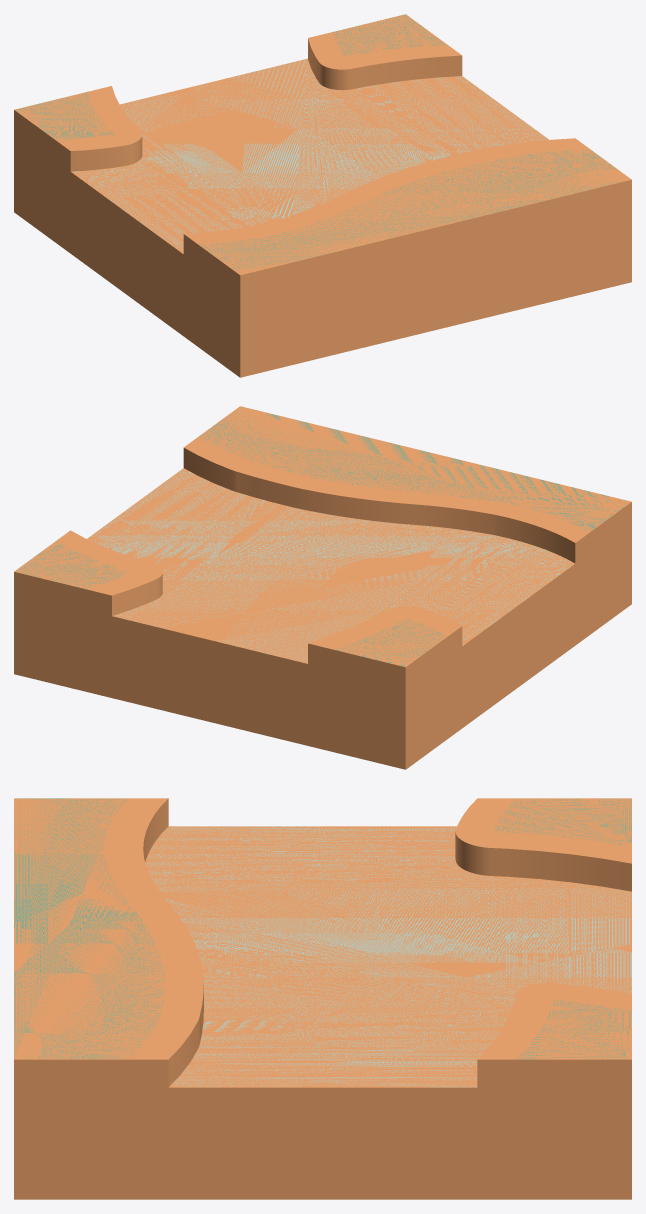
The model's file is ground_dirtRiverT.obj.
The picture shows the model from 3 angles, top to bottom: view 1: azimuth 30°, elevation 25°; view 2: azimuth 150°, elevation 25°; view 3: azimuth 270°, elevation 25°; orthographic projection. The views are drawn at different scales.
Parts seen in each view (by area): view 1: ground_dirtRiverT; view 2: ground_dirtRiverT; view 3: ground_dirtRiverT.
Part boxes in pixels (x1,y1,x2,y2): ground_dirtRiverT: [14, 14, 631, 377]; ground_dirtRiverT: [14, 406, 631, 769]; ground_dirtRiverT: [14, 798, 631, 1199].
Bounding box in the file's own units: 10 × 2.5 × 10.
